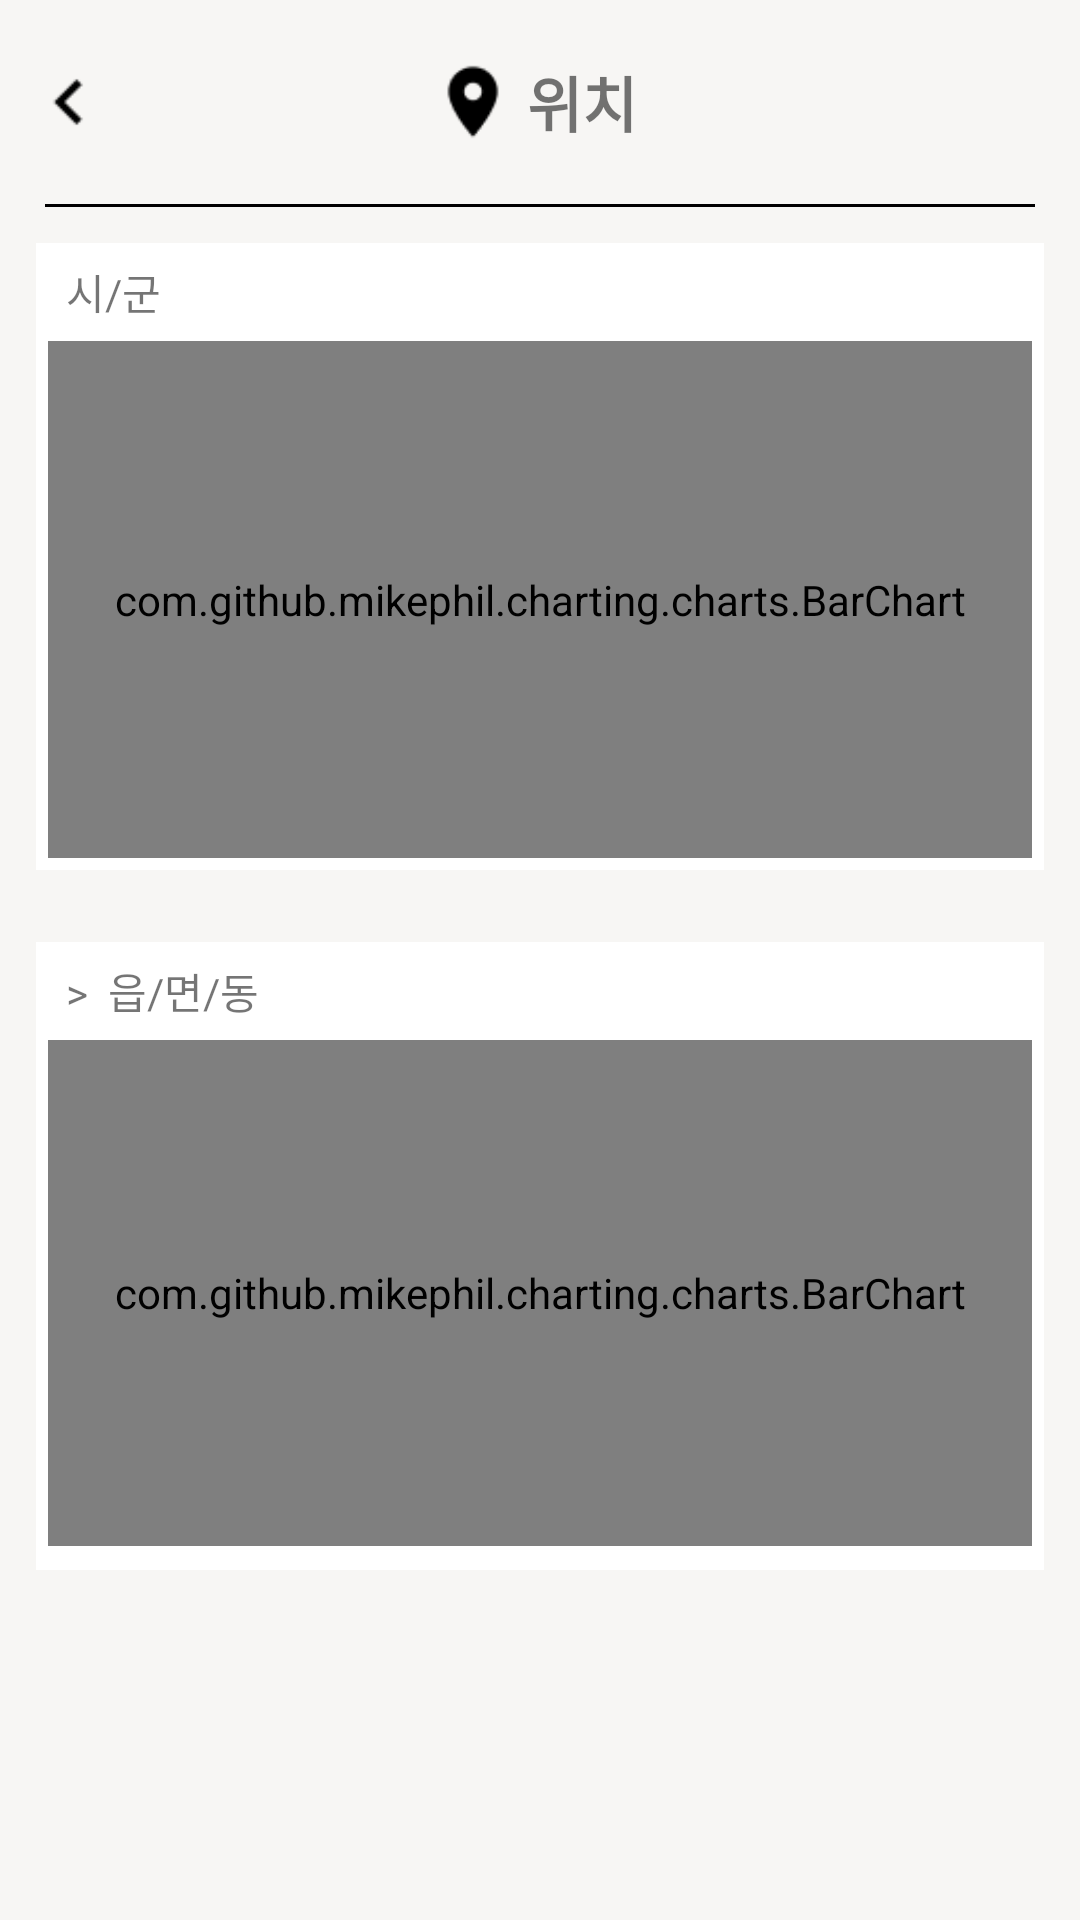

Named icons in this screenshot (1080px×1920px) and their bounding boxes, BBox(x1, y1, x2, y2):
left: BBox(53, 79, 83, 125)
map marker: BBox(447, 66, 499, 138)
